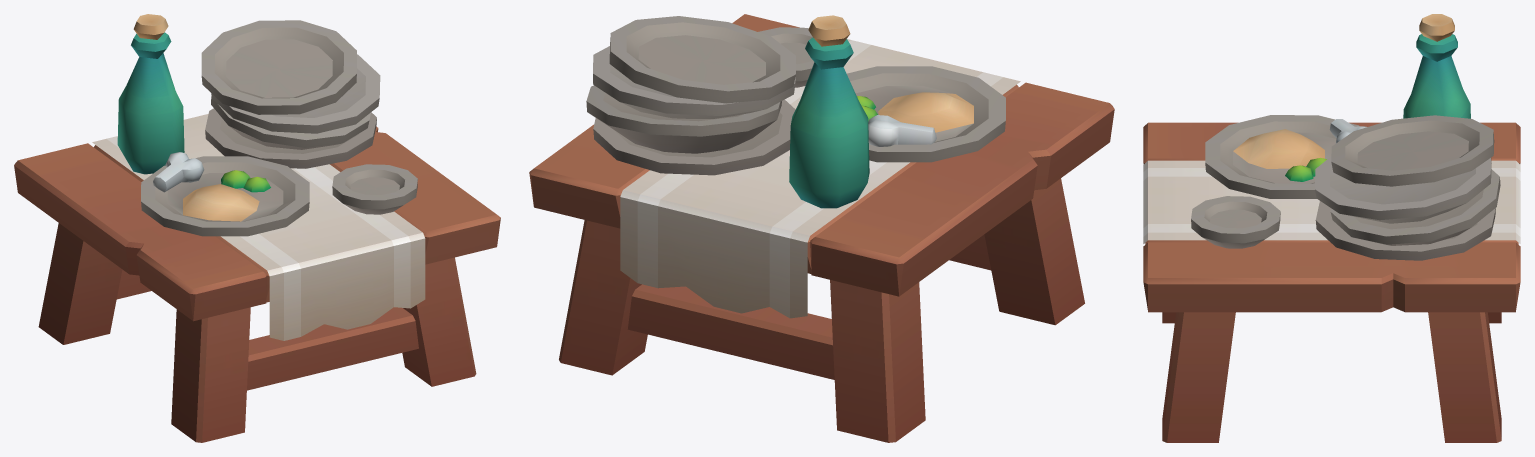
The model's file is table-medium-tablecloth-decorated-b-gltf.glb.
3 views of the same model, side by side, from view 1: azimuth 30°, elevation 25°; view 2: azimuth 150°, elevation 25°; view 3: azimuth 270°, elevation 25° (orthographic). The views are drawn at different scales.
Visible parts, largest first — view 1: table_medium_tablecloth_decorated_B; view 2: table_medium_tablecloth_decorated_B; view 3: table_medium_tablecloth_decorated_B.
Part boxes in pixels (<box>): table_medium_tablecloth_decorated_B: <box>14,14,500,442</box>; table_medium_tablecloth_decorated_B: <box>529,14,1114,442</box>; table_medium_tablecloth_decorated_B: <box>1143,14,1520,442</box>.
Size of the model in its own units: 2 by 1.89 by 2.
Materials: 1 (1 with a texture image).
